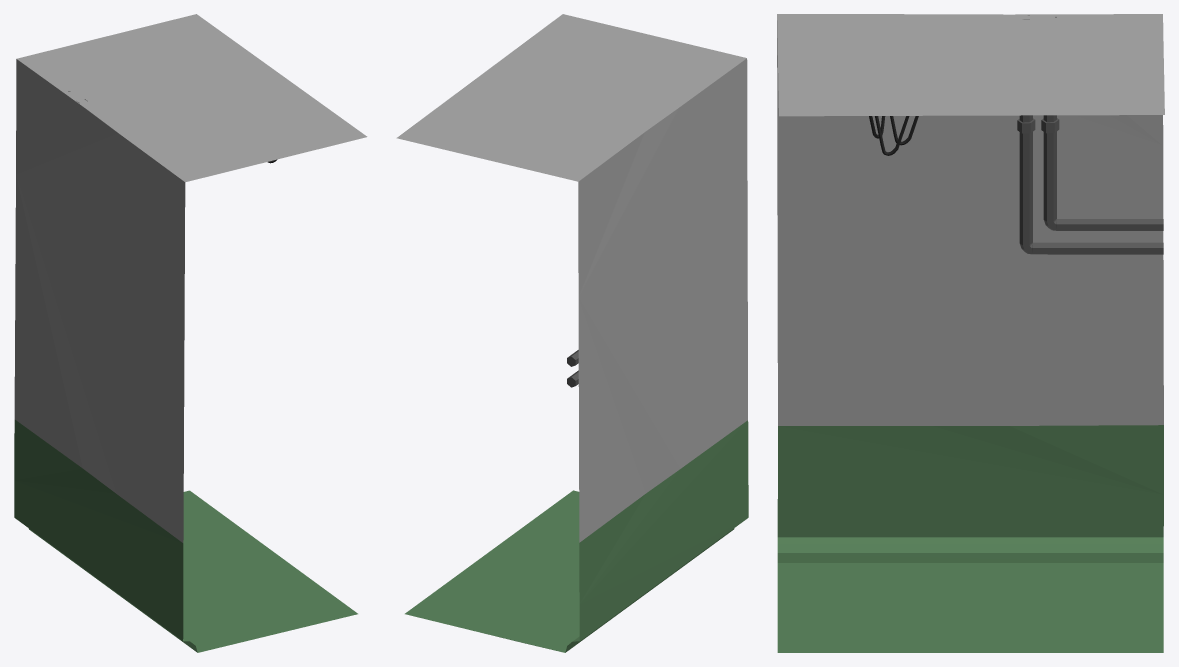
Rendered from mapa5.fbx.
3 views of the same model, side by side, from view 1: azimuth 30°, elevation 25°; view 2: azimuth 150°, elevation 25°; view 3: azimuth 270°, elevation 25° (orthographic). The views are drawn at different scales.
Parts seen in each view (by area): view 1: pCylinder45; view 2: pCylinder45; view 3: pCylinder45.
Part boxes in pixels (x1=…): pCylinder45: x1=14, y1=14, x2=367, y2=652; pCylinder45: x1=396, y1=14, x2=748, y2=652; pCylinder45: x1=777, y1=14, x2=1164, y2=652.
Size of the model in its own units: 3.46 by 8.47 by 5.49.
